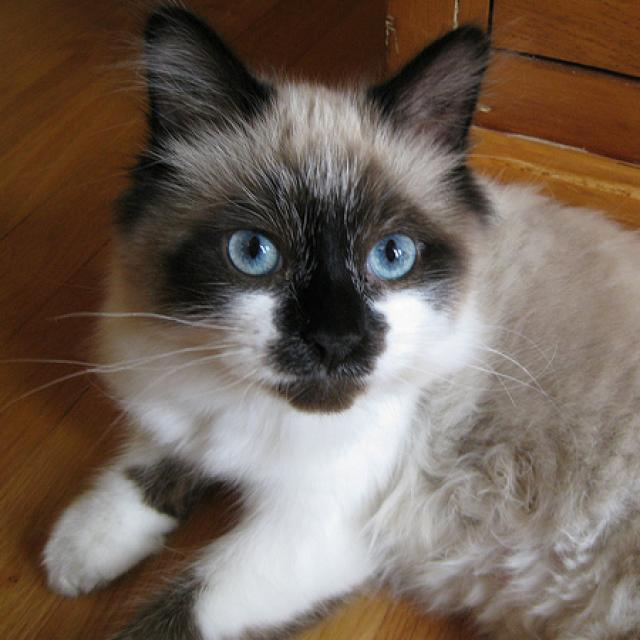Ragdoll: (37, 0, 640, 640)
